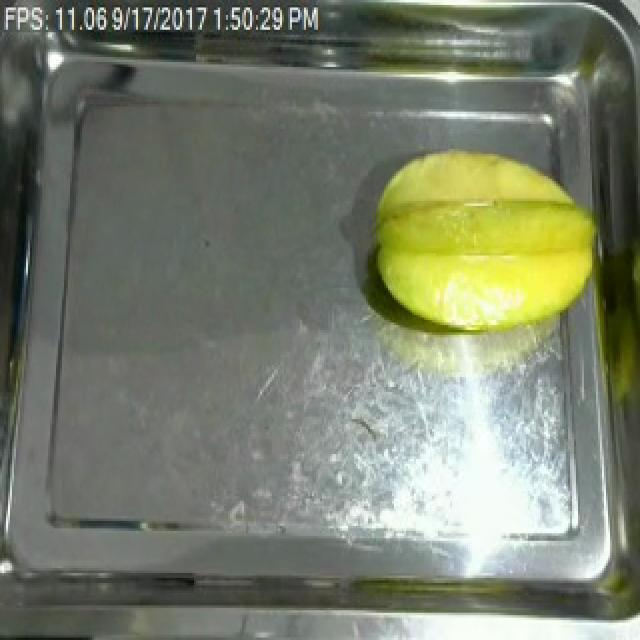fruit: (356, 126, 606, 342)
